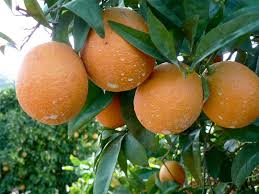orange: (78, 3, 158, 96), (12, 41, 90, 128), (132, 58, 204, 143), (201, 51, 259, 135)
